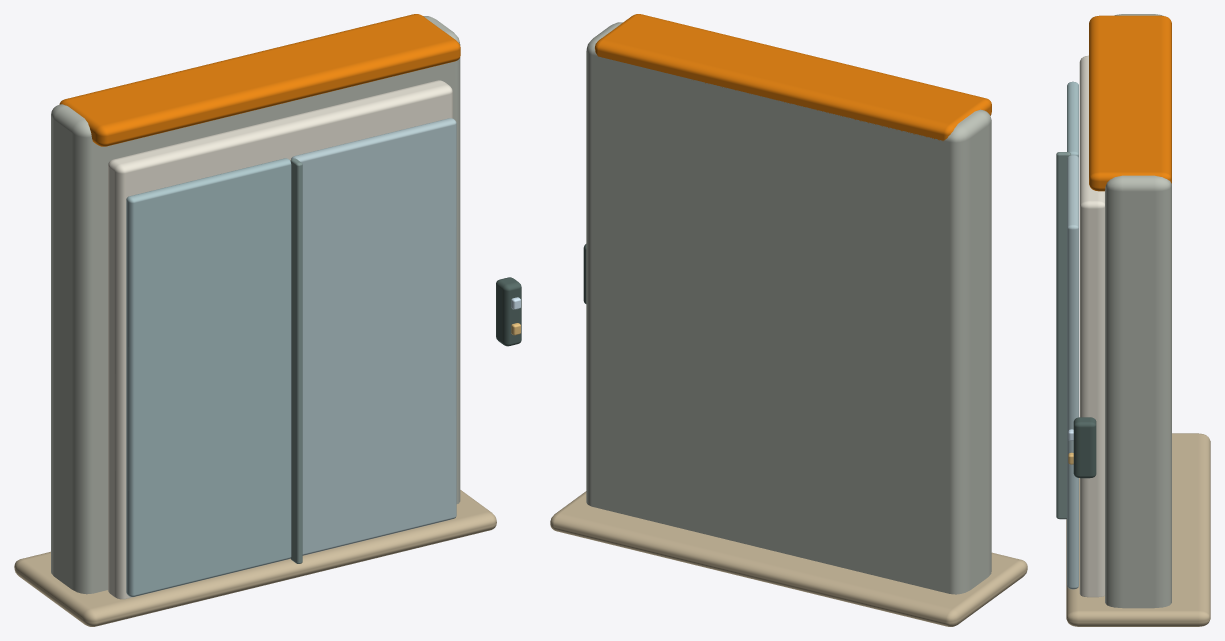
The model's file is lift.glb.
The picture shows the model from 3 angles, left to right: view 1: azimuth 30°, elevation 25°; view 2: azimuth 150°, elevation 25°; view 3: azimuth 270°, elevation 25°; orthographic projection. The views are drawn at different scales.
Visible parts, largest first — view 1: elevator-bay; view 2: elevator-bay; view 3: elevator-bay.
Boxes of the visible parts, box(x1,y1,x2,y2) form: elevator-bay: box(14, 14, 521, 626); elevator-bay: box(550, 14, 1027, 626); elevator-bay: box(1056, 14, 1210, 626).
Bounding box in the file's own units: 2.55 × 2.7 × 0.85.
